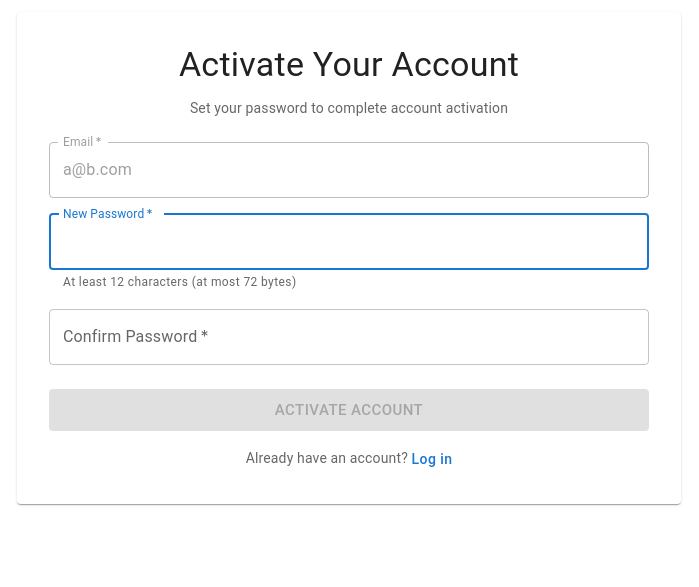
Test: ActivateAccount — form validation › shows error when passwords do not match
This screenshot has width=699, height=587.
In the password field labelled "New Password *": (349, 242) [49,214,649,270], type "password1234"
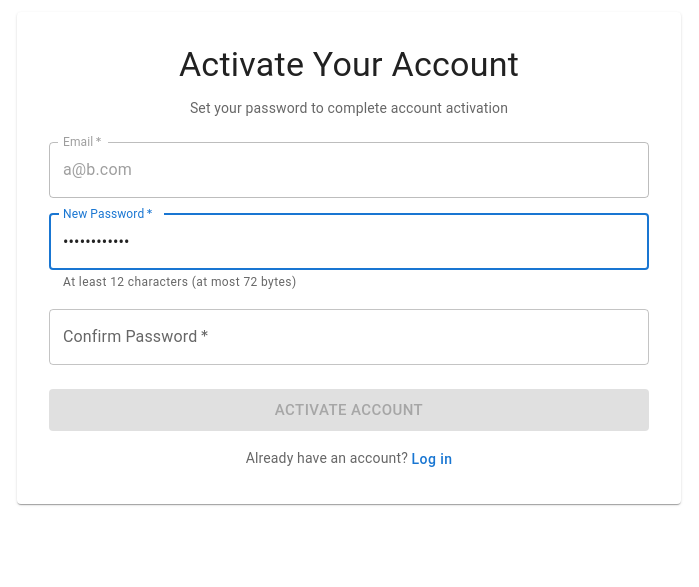
In the password field labelled "Confirm Password *": (349, 337) [49,309,649,365], type "different"
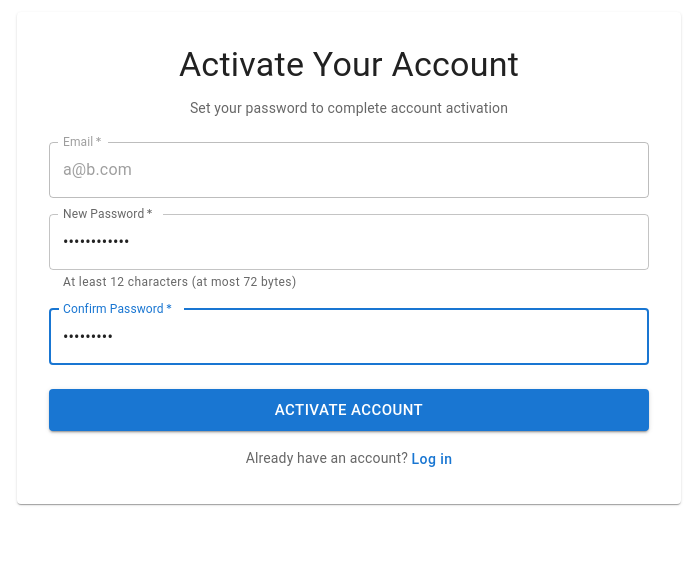
Click the button "Activate Account": (349, 410) [49,389,649,431]
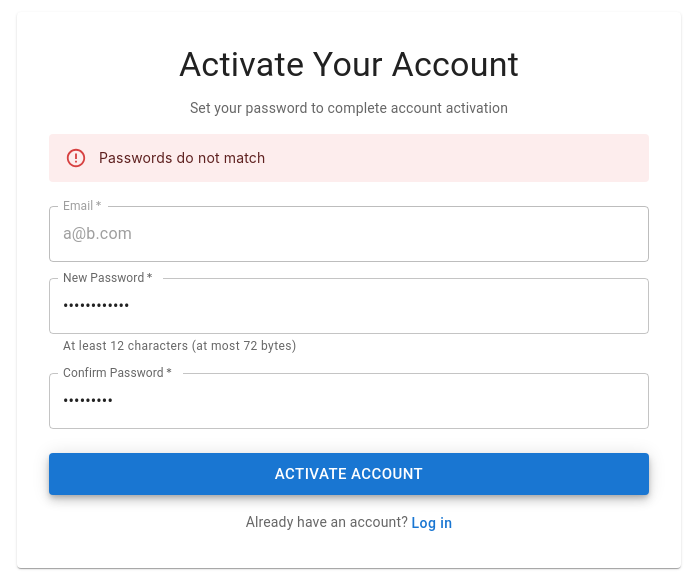
Expected: the text "Passwords do not match" is shown, [99,149,265,166]
